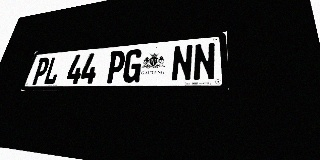4: (79, 53, 100, 84), (65, 54, 86, 84)
G: (121, 49, 144, 83)
L: (42, 56, 63, 85)
N: (193, 42, 216, 81), (171, 44, 193, 82)
P: (104, 50, 126, 83), (30, 57, 51, 85)
